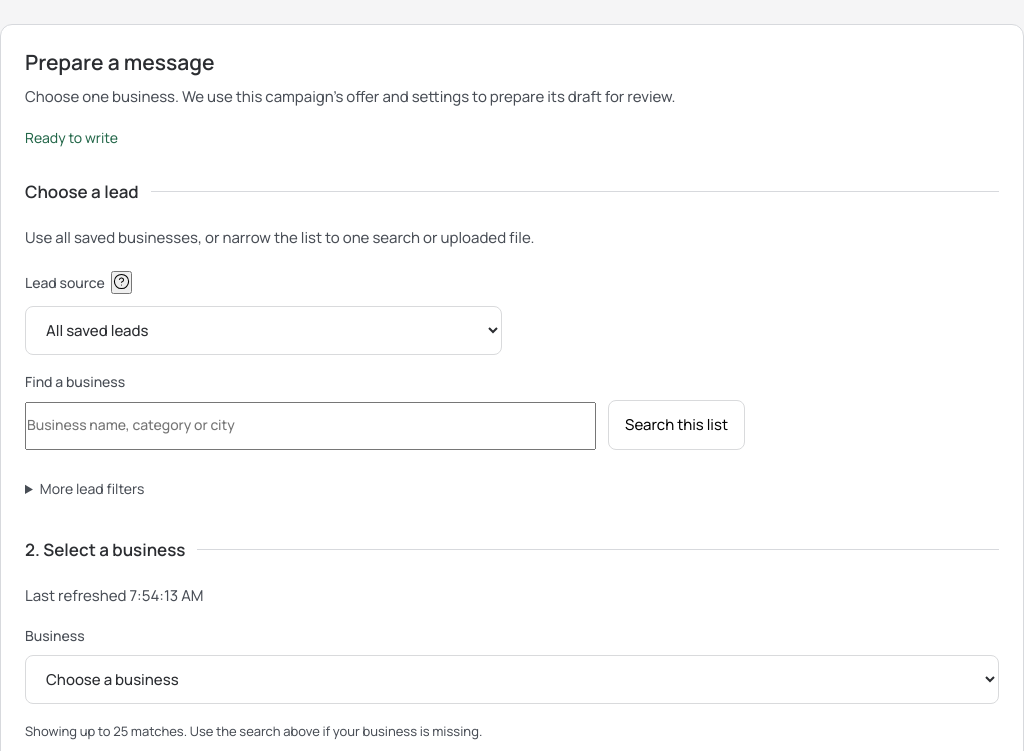
Test: choosing a search waits for its selection and requests only that search’s leads
Later steps or results of the test are not shown.
Select "A specific search" in the 1st dropdown: (264, 331) [25, 306, 502, 355]
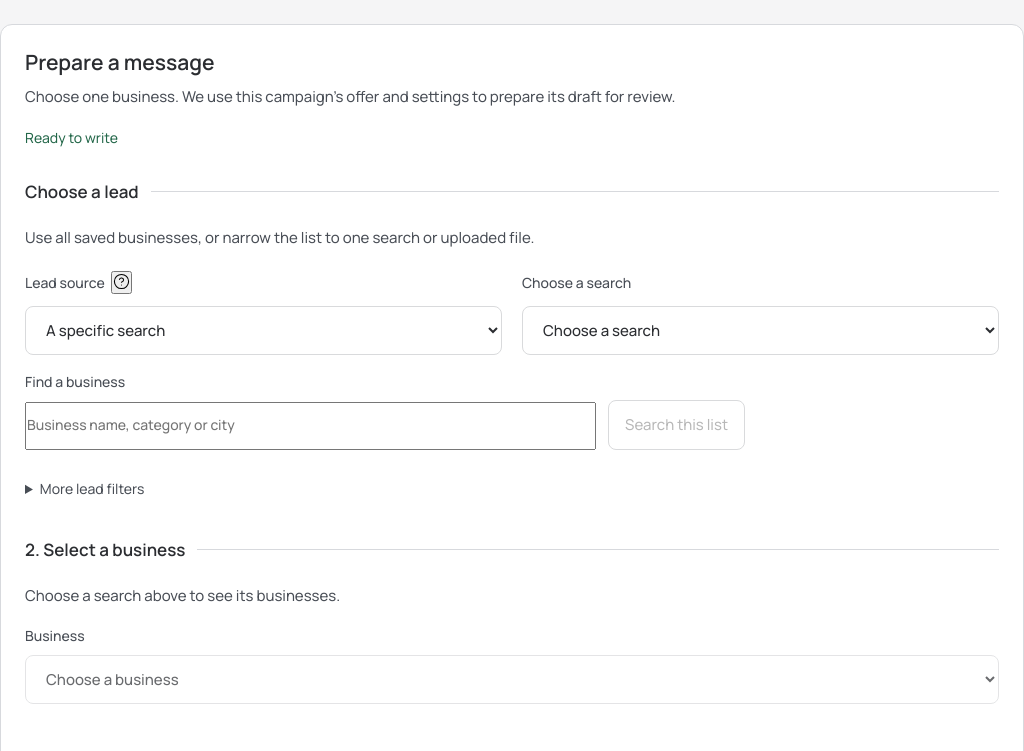
Now the dropdown named "Select business" is disabled, box [25, 655, 999, 704]
Now the text "Choose a search above" is shown, box [25, 585, 340, 606]
